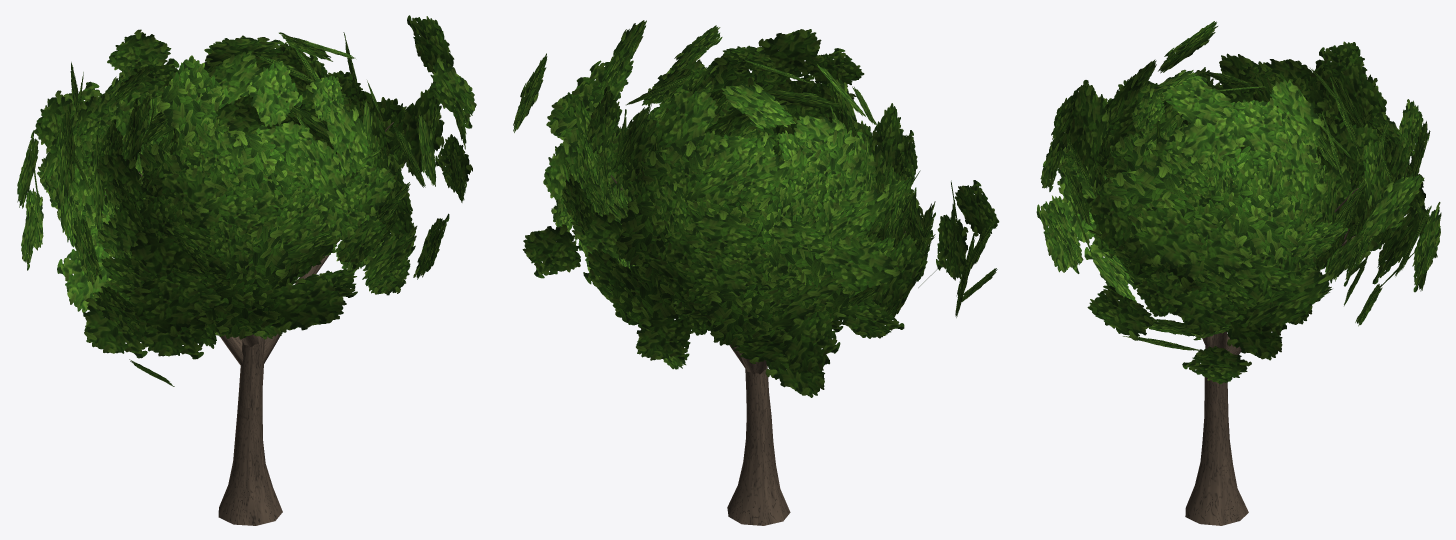
Rendered from tree_oak.glb.
The picture shows the model from 3 angles, left to right: view 1: azimuth 30°, elevation 25°; view 2: azimuth 150°, elevation 25°; view 3: azimuth 270°, elevation 25°; orthographic projection. The views are drawn at different scales.
Visible parts, largest first — view 1: tree_oak; view 2: tree_oak; view 3: tree_oak.
Boxes of the visible parts, x1,y1,x2,y2 form: tree_oak: (17, 15, 476, 525); tree_oak: (513, 20, 999, 525); tree_oak: (1036, 21, 1441, 525).
Size of the model in its own units: 7.96 by 8.79 by 6.91.
2 materials, 2 textured.
